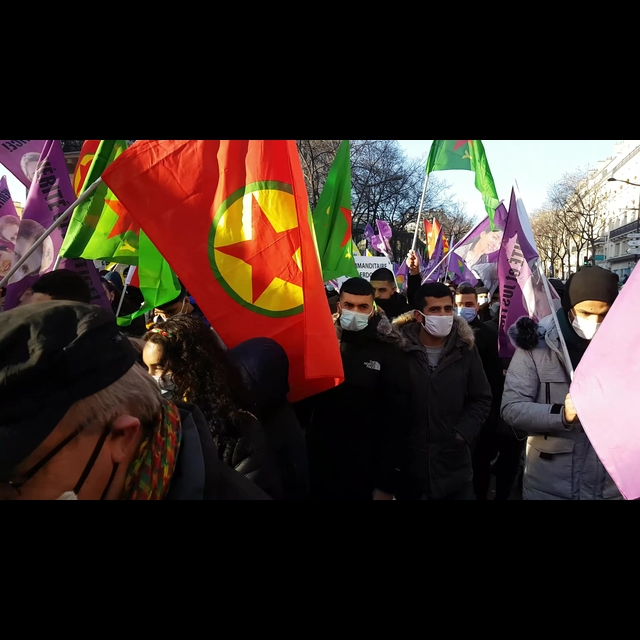PKK: (209, 176, 318, 319)
